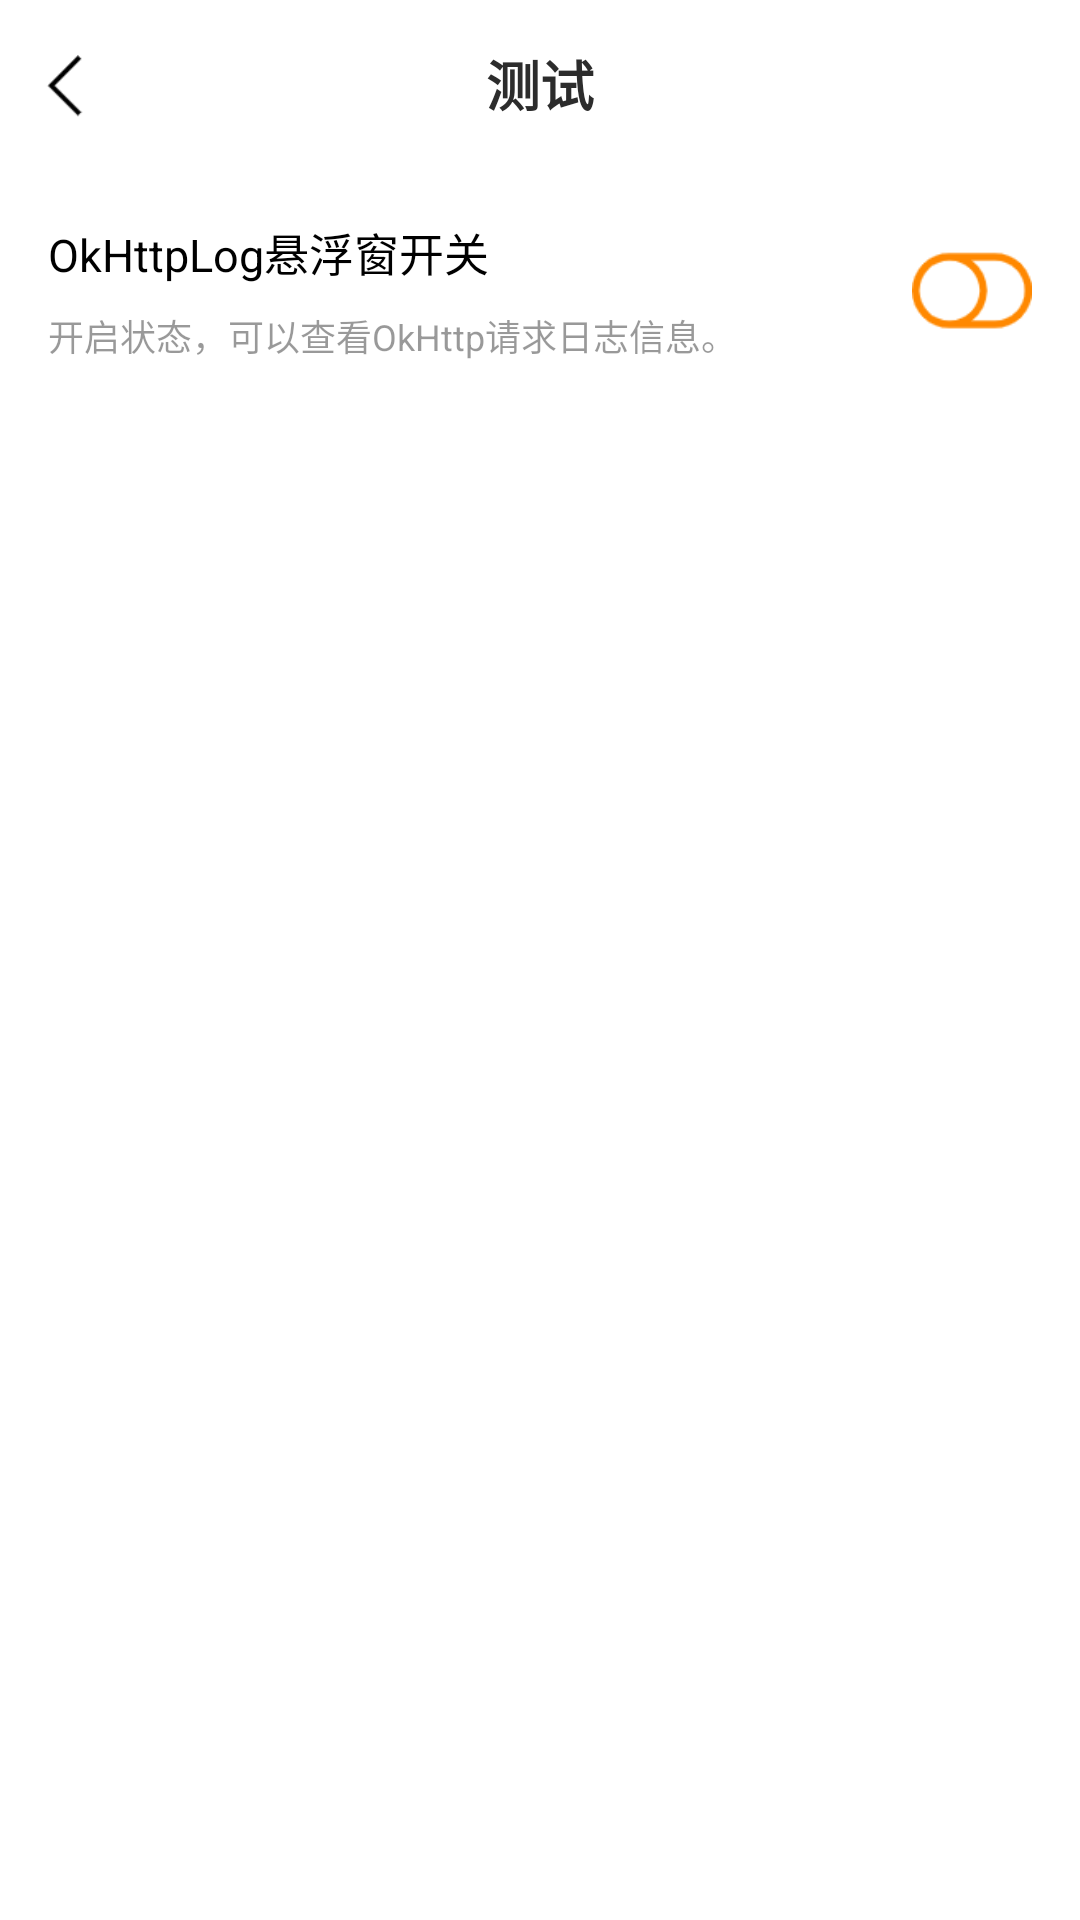

Point at icon controls on the screen. Image size 1080px×1920px, points as (x,y).
ak toggle off: (972,290)
arrow left: (65,85)
